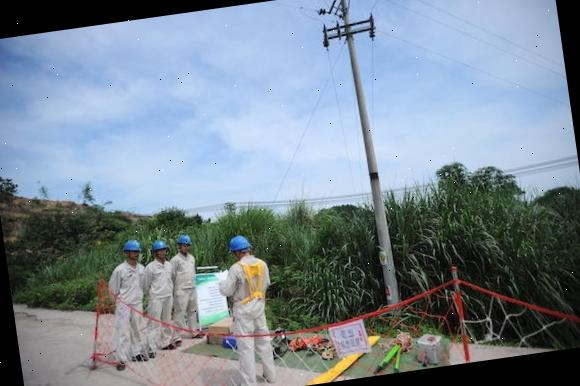helmet: (224, 233, 252, 253), (119, 237, 142, 253), (151, 239, 170, 252), (174, 232, 193, 245)
wear: (225, 256, 276, 317), (113, 262, 152, 308), (144, 260, 177, 300), (171, 252, 199, 293)
